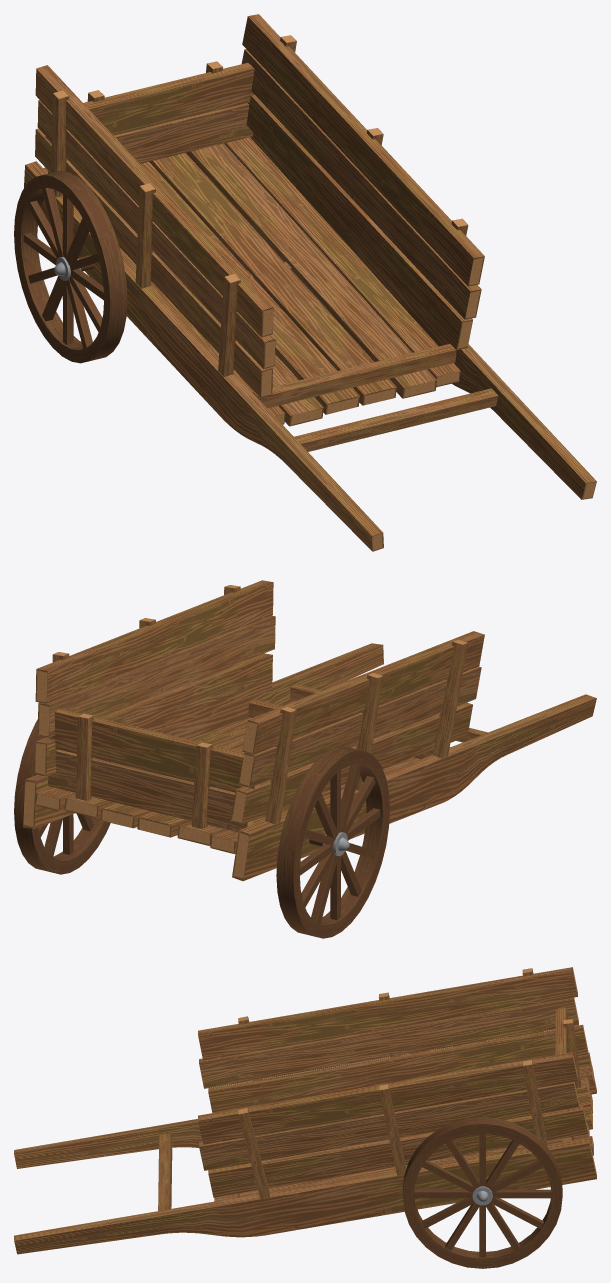
Rendered from med-wagon.glb.
3 views of the same model, one above another, from view 1: azimuth 30°, elevation 25°; view 2: azimuth 150°, elevation 25°; view 3: azimuth 270°, elevation 25° (orthographic). The views are drawn at different scales.
Visible parts, largest first — view 1: T_Prop_Wagon.001; view 2: T_Prop_Wagon.001; view 3: T_Prop_Wagon.001.
Boxes of the visible parts, bbox=[...] form: T_Prop_Wagon.001: bbox=[14, 14, 596, 551]; T_Prop_Wagon.001: bbox=[14, 580, 596, 938]; T_Prop_Wagon.001: bbox=[14, 967, 596, 1268].
Size of the model in its own units: 1.95 by 1.53 by 4.02.
1 material, 1 textured.
